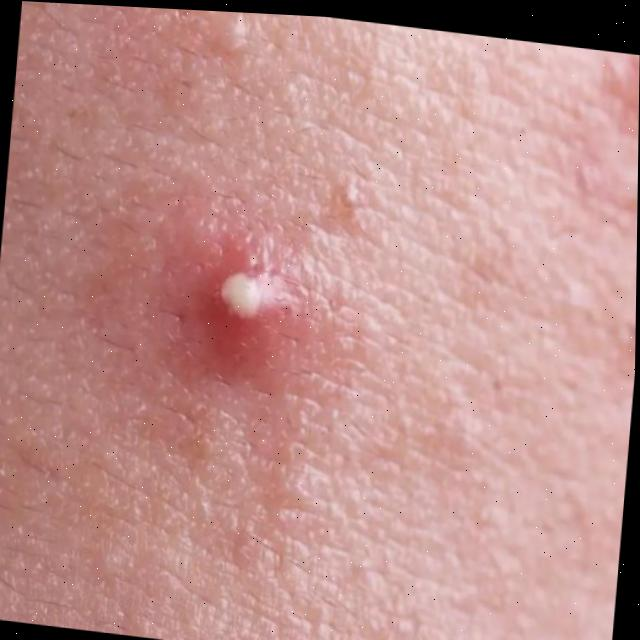Acne: (199, 243, 328, 356)
